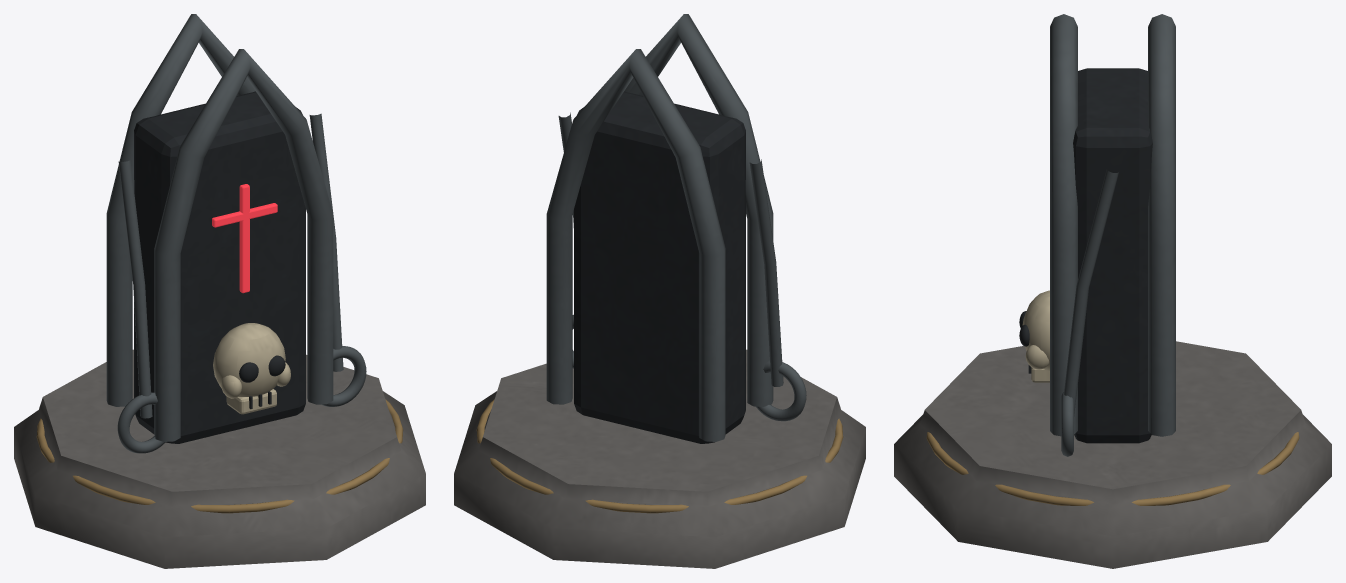
File: cursed_shrine.glb
3 views of the same model, side by side, from view 1: azimuth 30°, elevation 25°; view 2: azimuth 150°, elevation 25°; view 3: azimuth 270°, elevation 25° (orthographic). The views are drawn at different scales.
Parts seen in each view (by area): view 1: cursed_shrine; view 2: cursed_shrine; view 3: cursed_shrine.
Boxes of the visible parts, bbox=[...] form: cursed_shrine: bbox=[14, 14, 425, 568]; cursed_shrine: bbox=[454, 14, 865, 568]; cursed_shrine: bbox=[894, 14, 1331, 568].
Size of the model in its own units: 1.16 by 1.35 by 1.16.
Materials: 6 (5 with a texture image).
